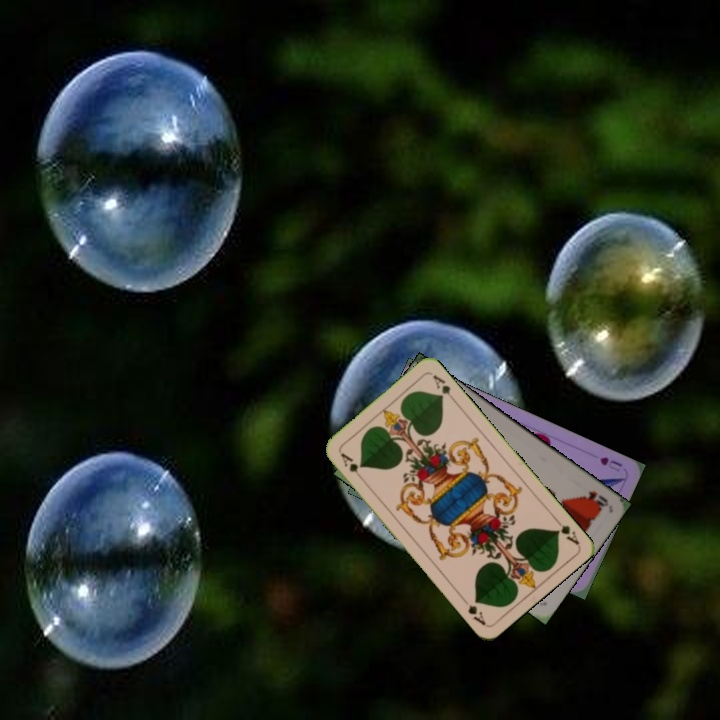GA: (550, 513, 582, 547), (336, 449, 366, 482)
HO: (579, 487, 611, 511)
HU: (595, 453, 625, 474)
